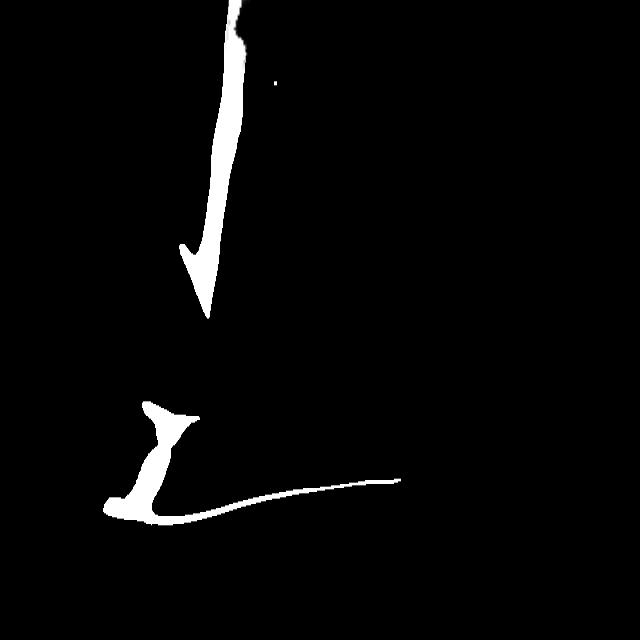sl: (220, 0, 255, 62)
